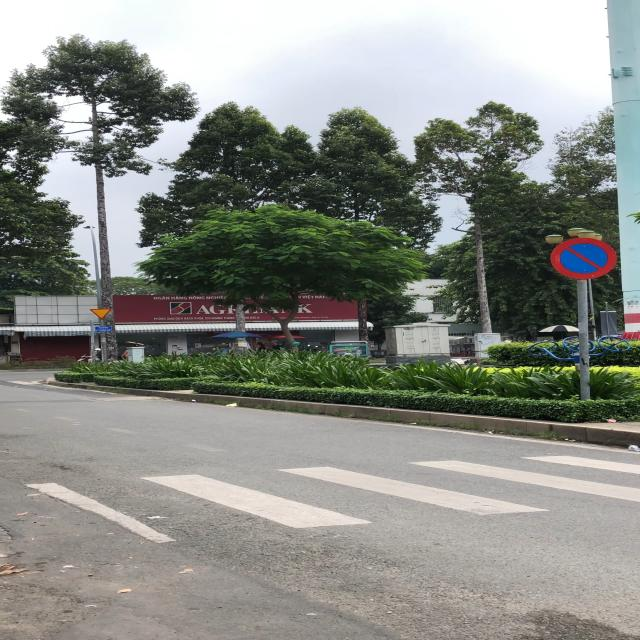Bien bao cam do xe: (546, 236, 622, 281)
Bien bao giao nhau voi duong uu tien: (89, 308, 114, 320)
